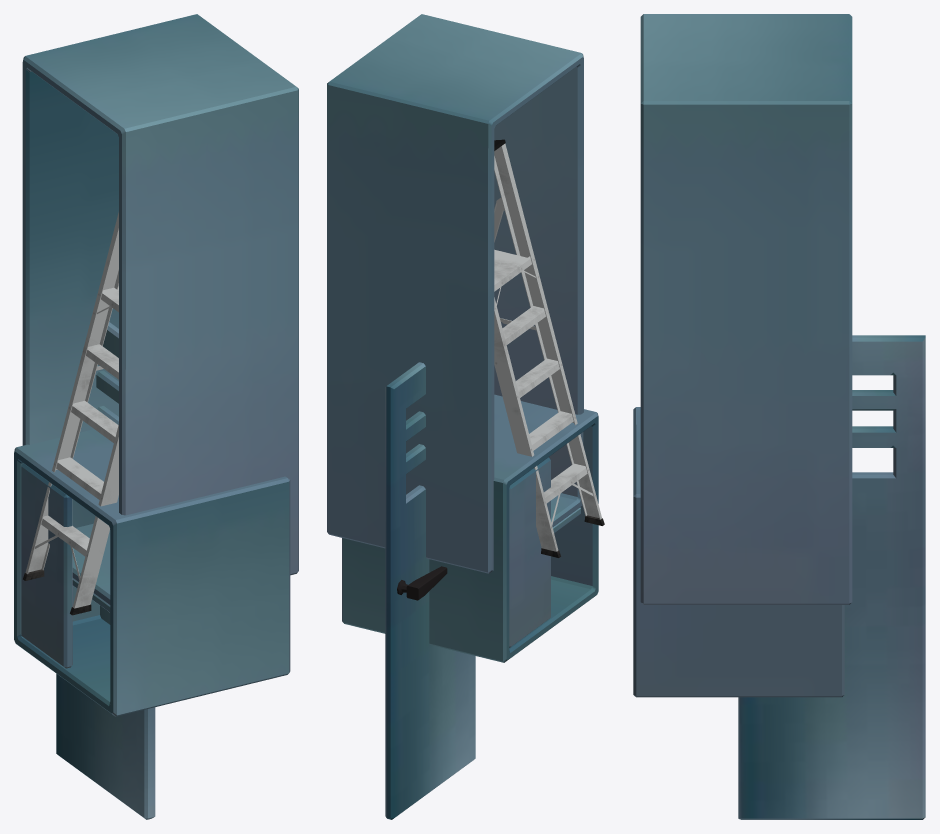
Rendered from daoju_D.fbx.
The picture shows the model from 3 angles, left to right: view 1: azimuth 30°, elevation 25°; view 2: azimuth 150°, elevation 25°; view 3: azimuth 270°, elevation 25°; orthographic projection. The views are drawn at different scales.
Visible parts, largest first — view 1: polySurface1, pCube5, StepLadder, pCube2; view 2: polySurface1, pCube5, pCube2, StepLadder; view 3: polySurface1, pCube2, pCube5.
Part boxes in pixels (x1=…): polySurface1: x1=22, y1=14, x2=298, y2=604; pCube5: x1=14, y1=429, x2=290, y2=716; StepLadder: x1=23, y1=212, x2=118, y2=615; pCube2: x1=56, y1=322, x2=155, y2=819; polySurface1: x1=327, y1=14, x2=583, y2=573; pCube5: x1=342, y1=394, x2=598, y2=662; pCube2: x1=385, y1=362, x2=475, y2=819; StepLadder: x1=494, y1=139, x2=604, y2=557; polySurface1: x1=640, y1=14, x2=852, y2=604; pCube2: x1=738, y1=335, x2=925, y2=819; pCube5: x1=633, y1=407, x2=844, y2=697.
Bounding box in the file's own units: 1.2 × 4.01 × 1.38.
